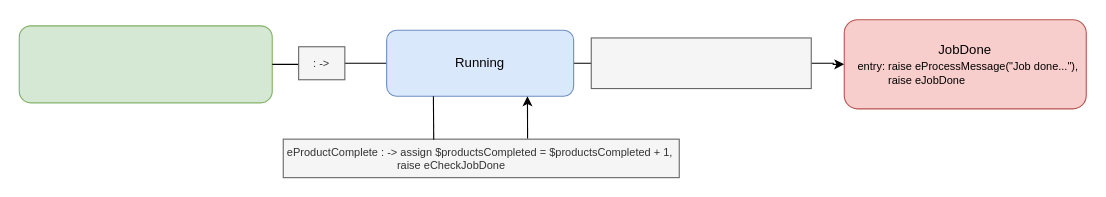
The diagram is 1106 pixels wide and 197 high, and some of its shapes have lost their labels. Here are the shapes that lost their labels. From the top down, the centre of each, then its label:
(x=145, y=64): Starting entry: raise eProcessMessage("Job started... ")
(x=700, y=63): eCheckJobDone : $productsCompleted >= $totalProducts ->
